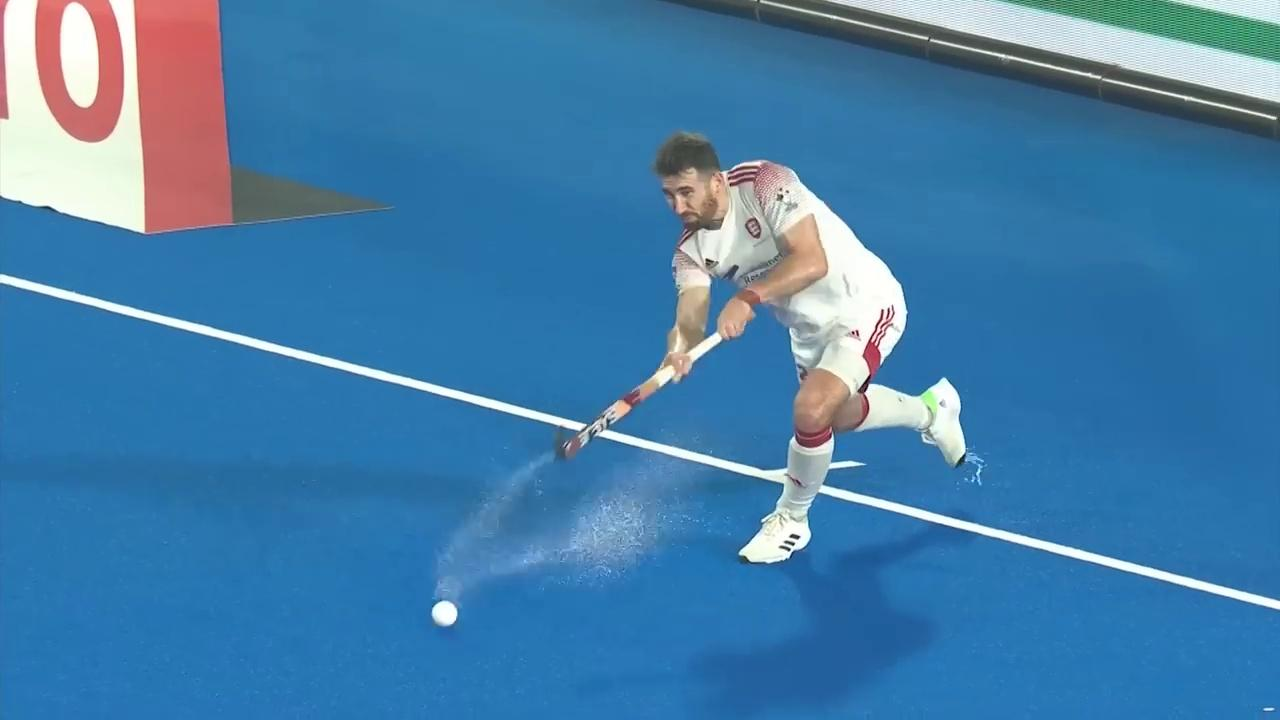ball: (414, 586, 474, 647)
